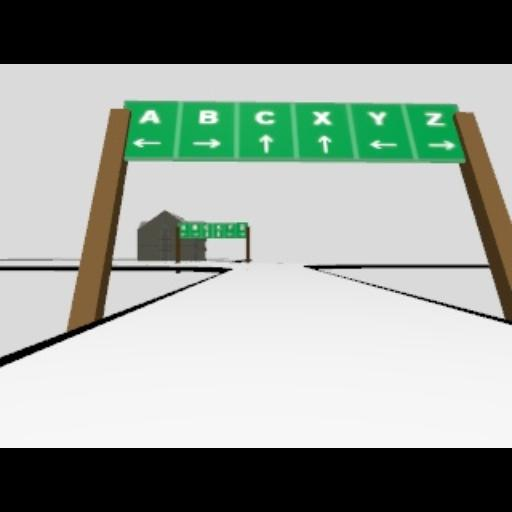A: (139, 107, 161, 125)
B: (197, 109, 219, 125)
C: (256, 109, 276, 125)
Left: (368, 139, 398, 149), (131, 137, 161, 147)
Right: (192, 138, 222, 148), (428, 140, 454, 150)
Straight: (258, 132, 274, 154), (317, 134, 331, 154)
X: (312, 111, 332, 125)
Y: (366, 111, 388, 125)
Z: (424, 110, 444, 126)
